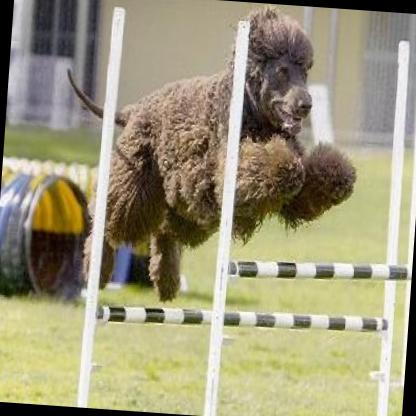Irish_water_spaniel: (44, 0, 370, 317)
